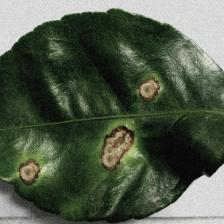canker: (5, 61, 178, 186)
